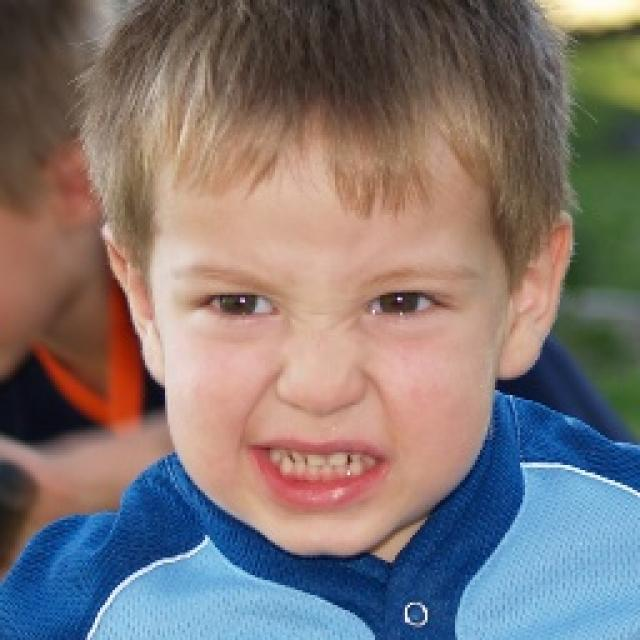earlobe: (497, 210, 577, 378), (101, 223, 167, 389)
